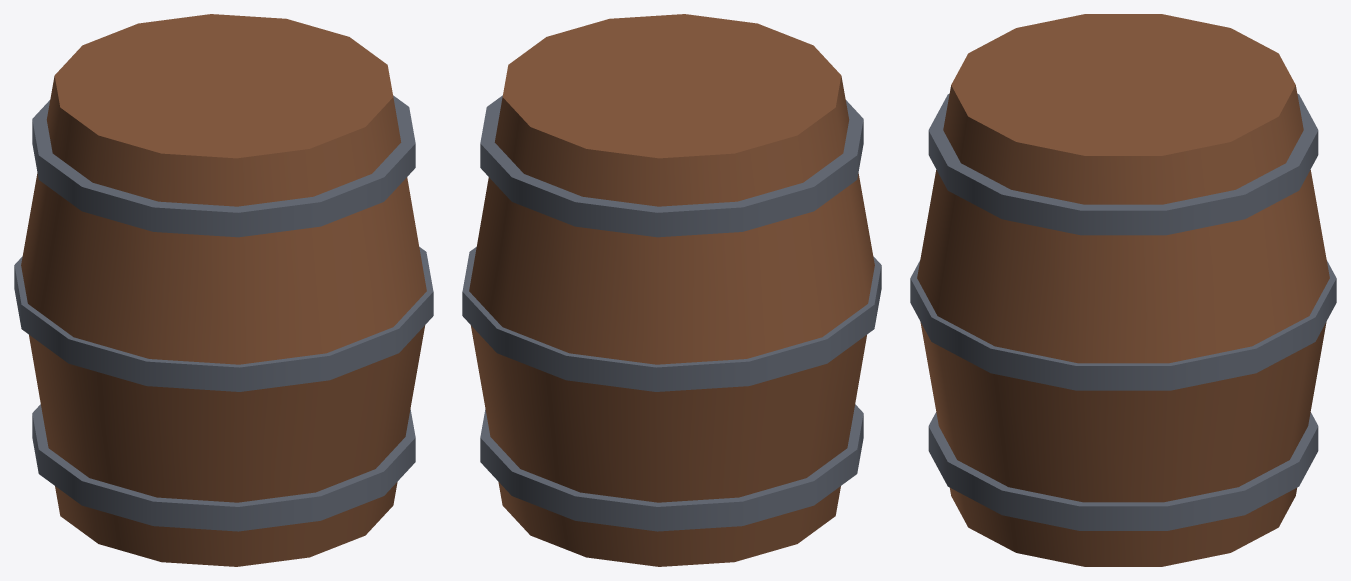
The model's file is barrel.glb.
3 views of the same model, side by side, from view 1: azimuth 30°, elevation 25°; view 2: azimuth 150°, elevation 25°; view 3: azimuth 270°, elevation 25° (orthographic).
Parts seen in each view (by area): view 1: barrel; view 2: barrel; view 3: barrel.
Part boxes in pixels (x1,y1,x2,y2): barrel: [14, 14, 433, 566]; barrel: [462, 14, 881, 566]; barrel: [910, 14, 1336, 566].
Bounding box in the file's own units: 0.9164 × 1 × 0.94.
